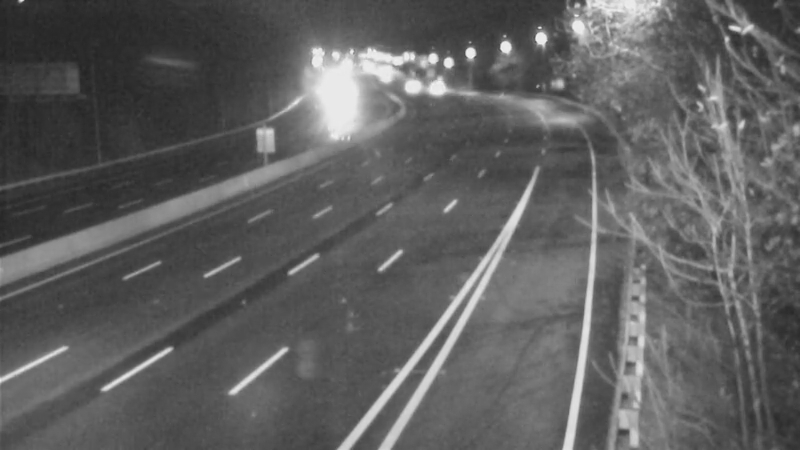vehicle: (386, 61, 436, 111), (411, 62, 461, 112)
